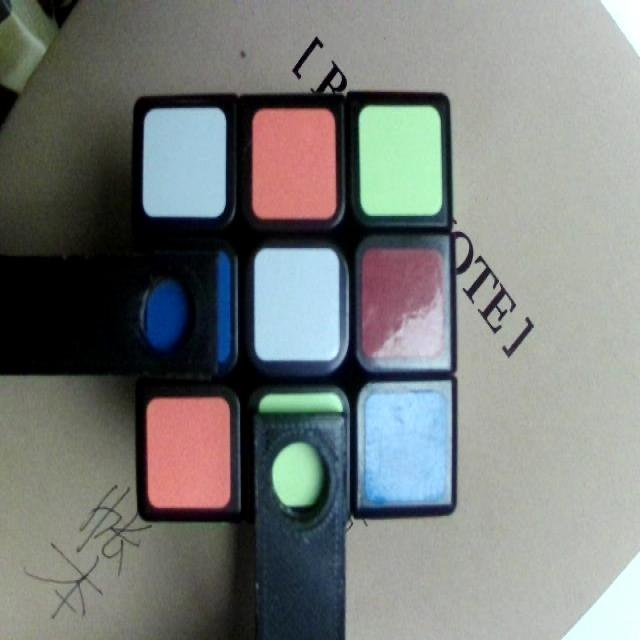b: (362, 390, 447, 505), (143, 254, 230, 361)
o: (147, 398, 231, 508), (251, 108, 335, 215)
r: (362, 251, 443, 357)
w: (254, 251, 341, 360), (144, 108, 224, 212)
y: (260, 394, 342, 522), (361, 102, 442, 216)
